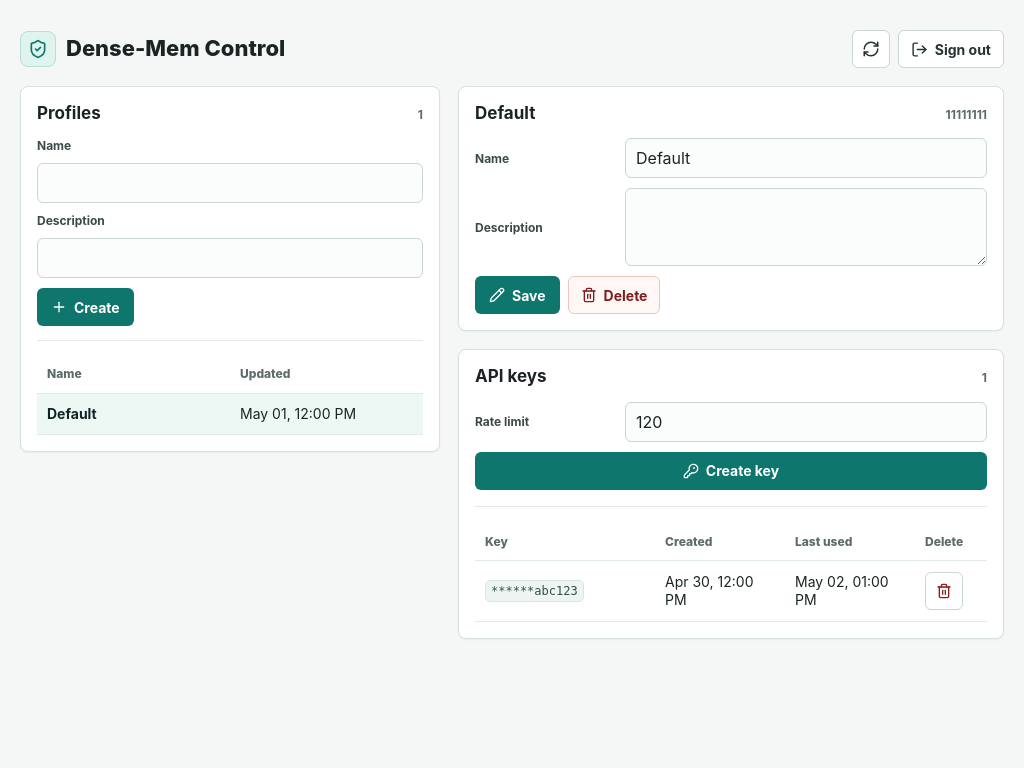
Test case: App › shows API keys with suffix, last used time, and delete action
Expected: the button "Default" is shown, left=47, top=405, right=97, bottom=423
Expected: the text "******abc123" is shown, left=485, top=580, right=584, bottom=602
Click the button named "delete api key ******abc123" at (944, 591), box left=925, top=572, right=963, bottom=610
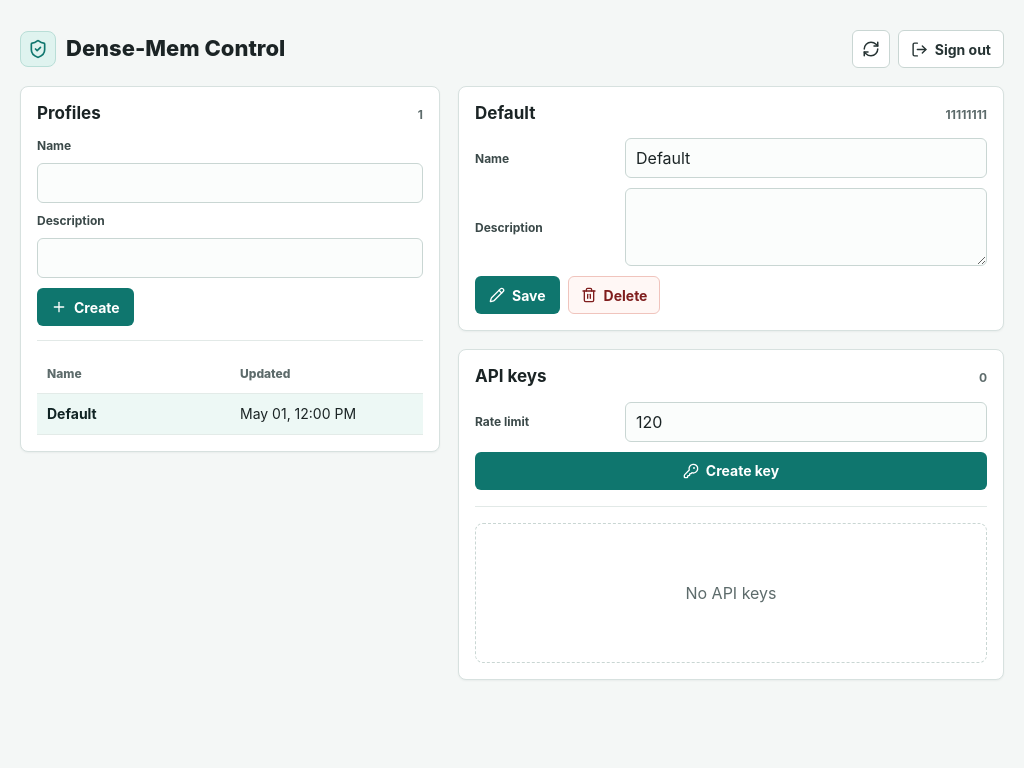
Now the text "******abc123" is gone
